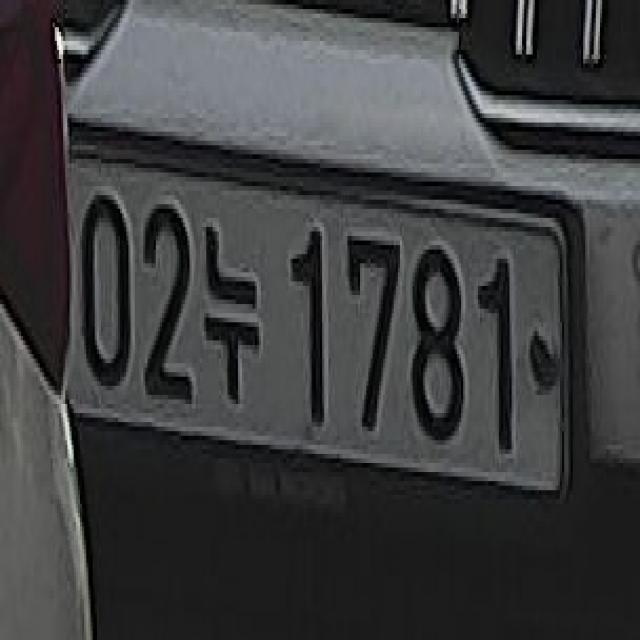0: (84, 184, 134, 418)
1: (286, 212, 337, 456), (479, 238, 519, 468)
2: (140, 190, 192, 413)
7: (344, 221, 404, 456)
8: (409, 230, 474, 460)
license_plate: (70, 146, 582, 529)
nu: (199, 192, 273, 420)
